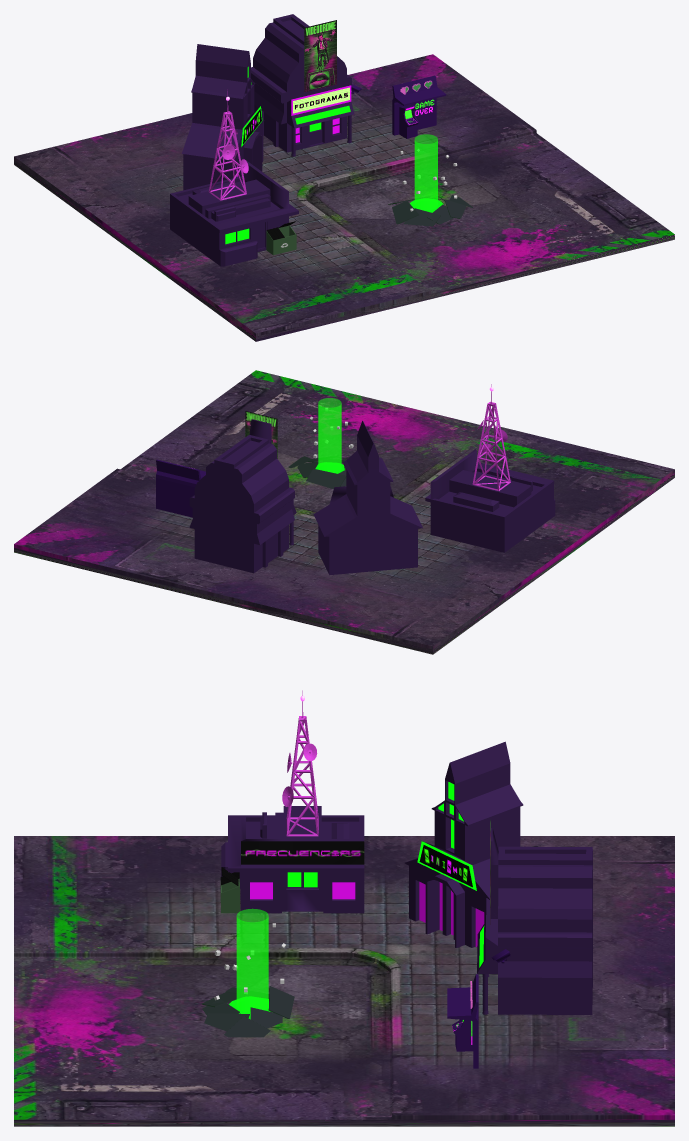
Rendered from ciudad.glb.
The picture shows the model from 3 angles, top to bottom: view 1: azimuth 30°, elevation 25°; view 2: azimuth 150°, elevation 25°; view 3: azimuth 270°, elevation 25°; orthographic projection. The views are drawn at different scales.
Parts seen in each view (by area): view 1: base, frecuencias_edificio, fotogramas_edificio, sinismos_edificio, game_over_arcade, fotogramas_poster, error404_columna, error404_fragmentos, fotogramas_cartel, frecuencias_cartel, archivo_corrupto_tacho; view 2: base, fotogramas_edificio, sinismos_edificio, frecuencias_edificio, game_over_arcade, error404_columna, error404_fragmentos, frecuencias_cartel, fotogramas_poster; view 3: base, fotogramas_edificio, sinismos_edificio, frecuencias_edificio, error404_columna, error404_fragmentos, frecuencias_cartel, game_over_arcade, sinismos_cartel.
Part boxes in pixels (x1,y1,x2,y2): base: (14,54,674,341); frecuencias_edificio: (170,89,298,266); fotogramas_edificio: (251,14,354,156); sinismos_edificio: (181,44,264,190); game_over_arcade: (392,75,446,138); fotogramas_poster: (304,20,336,92); error404_columna: (414,134,437,210); error404_fragmentos: (388,149,472,226); fotogramas_cartel: (293,87,349,113); frecuencias_cartel: (243,158,288,208); archivo_corrupto_tacho: (266,225,296,255); base: (14,370,674,654); fotogramas_edificio: (189,419,296,573); sinismos_edificio: (313,420,422,575); frecuencias_edificio: (425,384,555,552); game_over_arcade: (156,459,205,517); error404_columna: (318,398,341,473); error404_fragmentos: (288,408,353,488); frecuencias_cartel: (430,449,476,498); fotogramas_poster: (245,411,277,458); base: (14,836,674,1126); fotogramas_edificio: (477,828,592,1014); sinismos_edificio: (404,741,523,947); frecuencias_edificio: (221,690,364,913); error404_columna: (236,908,268,1012); error404_fragmentos: (201,923,294,1037); frecuencias_cartel: (241,839,364,864); game_over_arcade: (447,974,478,1068); sinismos_cartel: (419,845,472,887).
Bounding box in the file's own units: 33.05 × 12.21 × 33.05.
20 materials, 6 textured.
